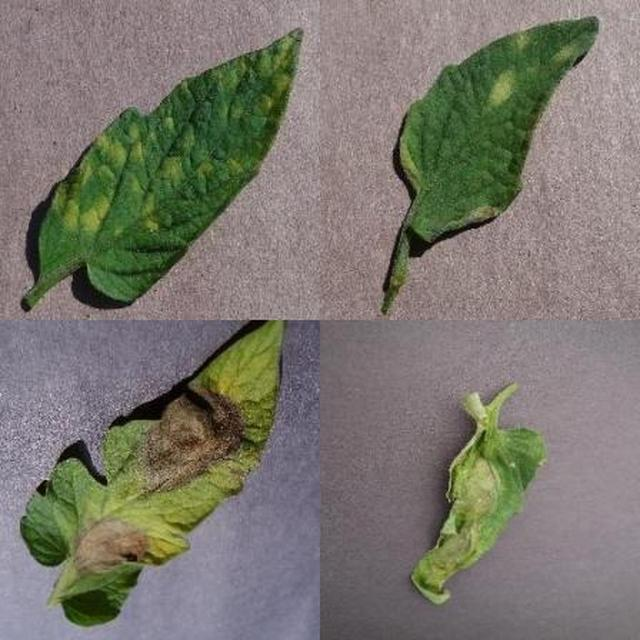Leaf Mold: (196, 184, 640, 640)
